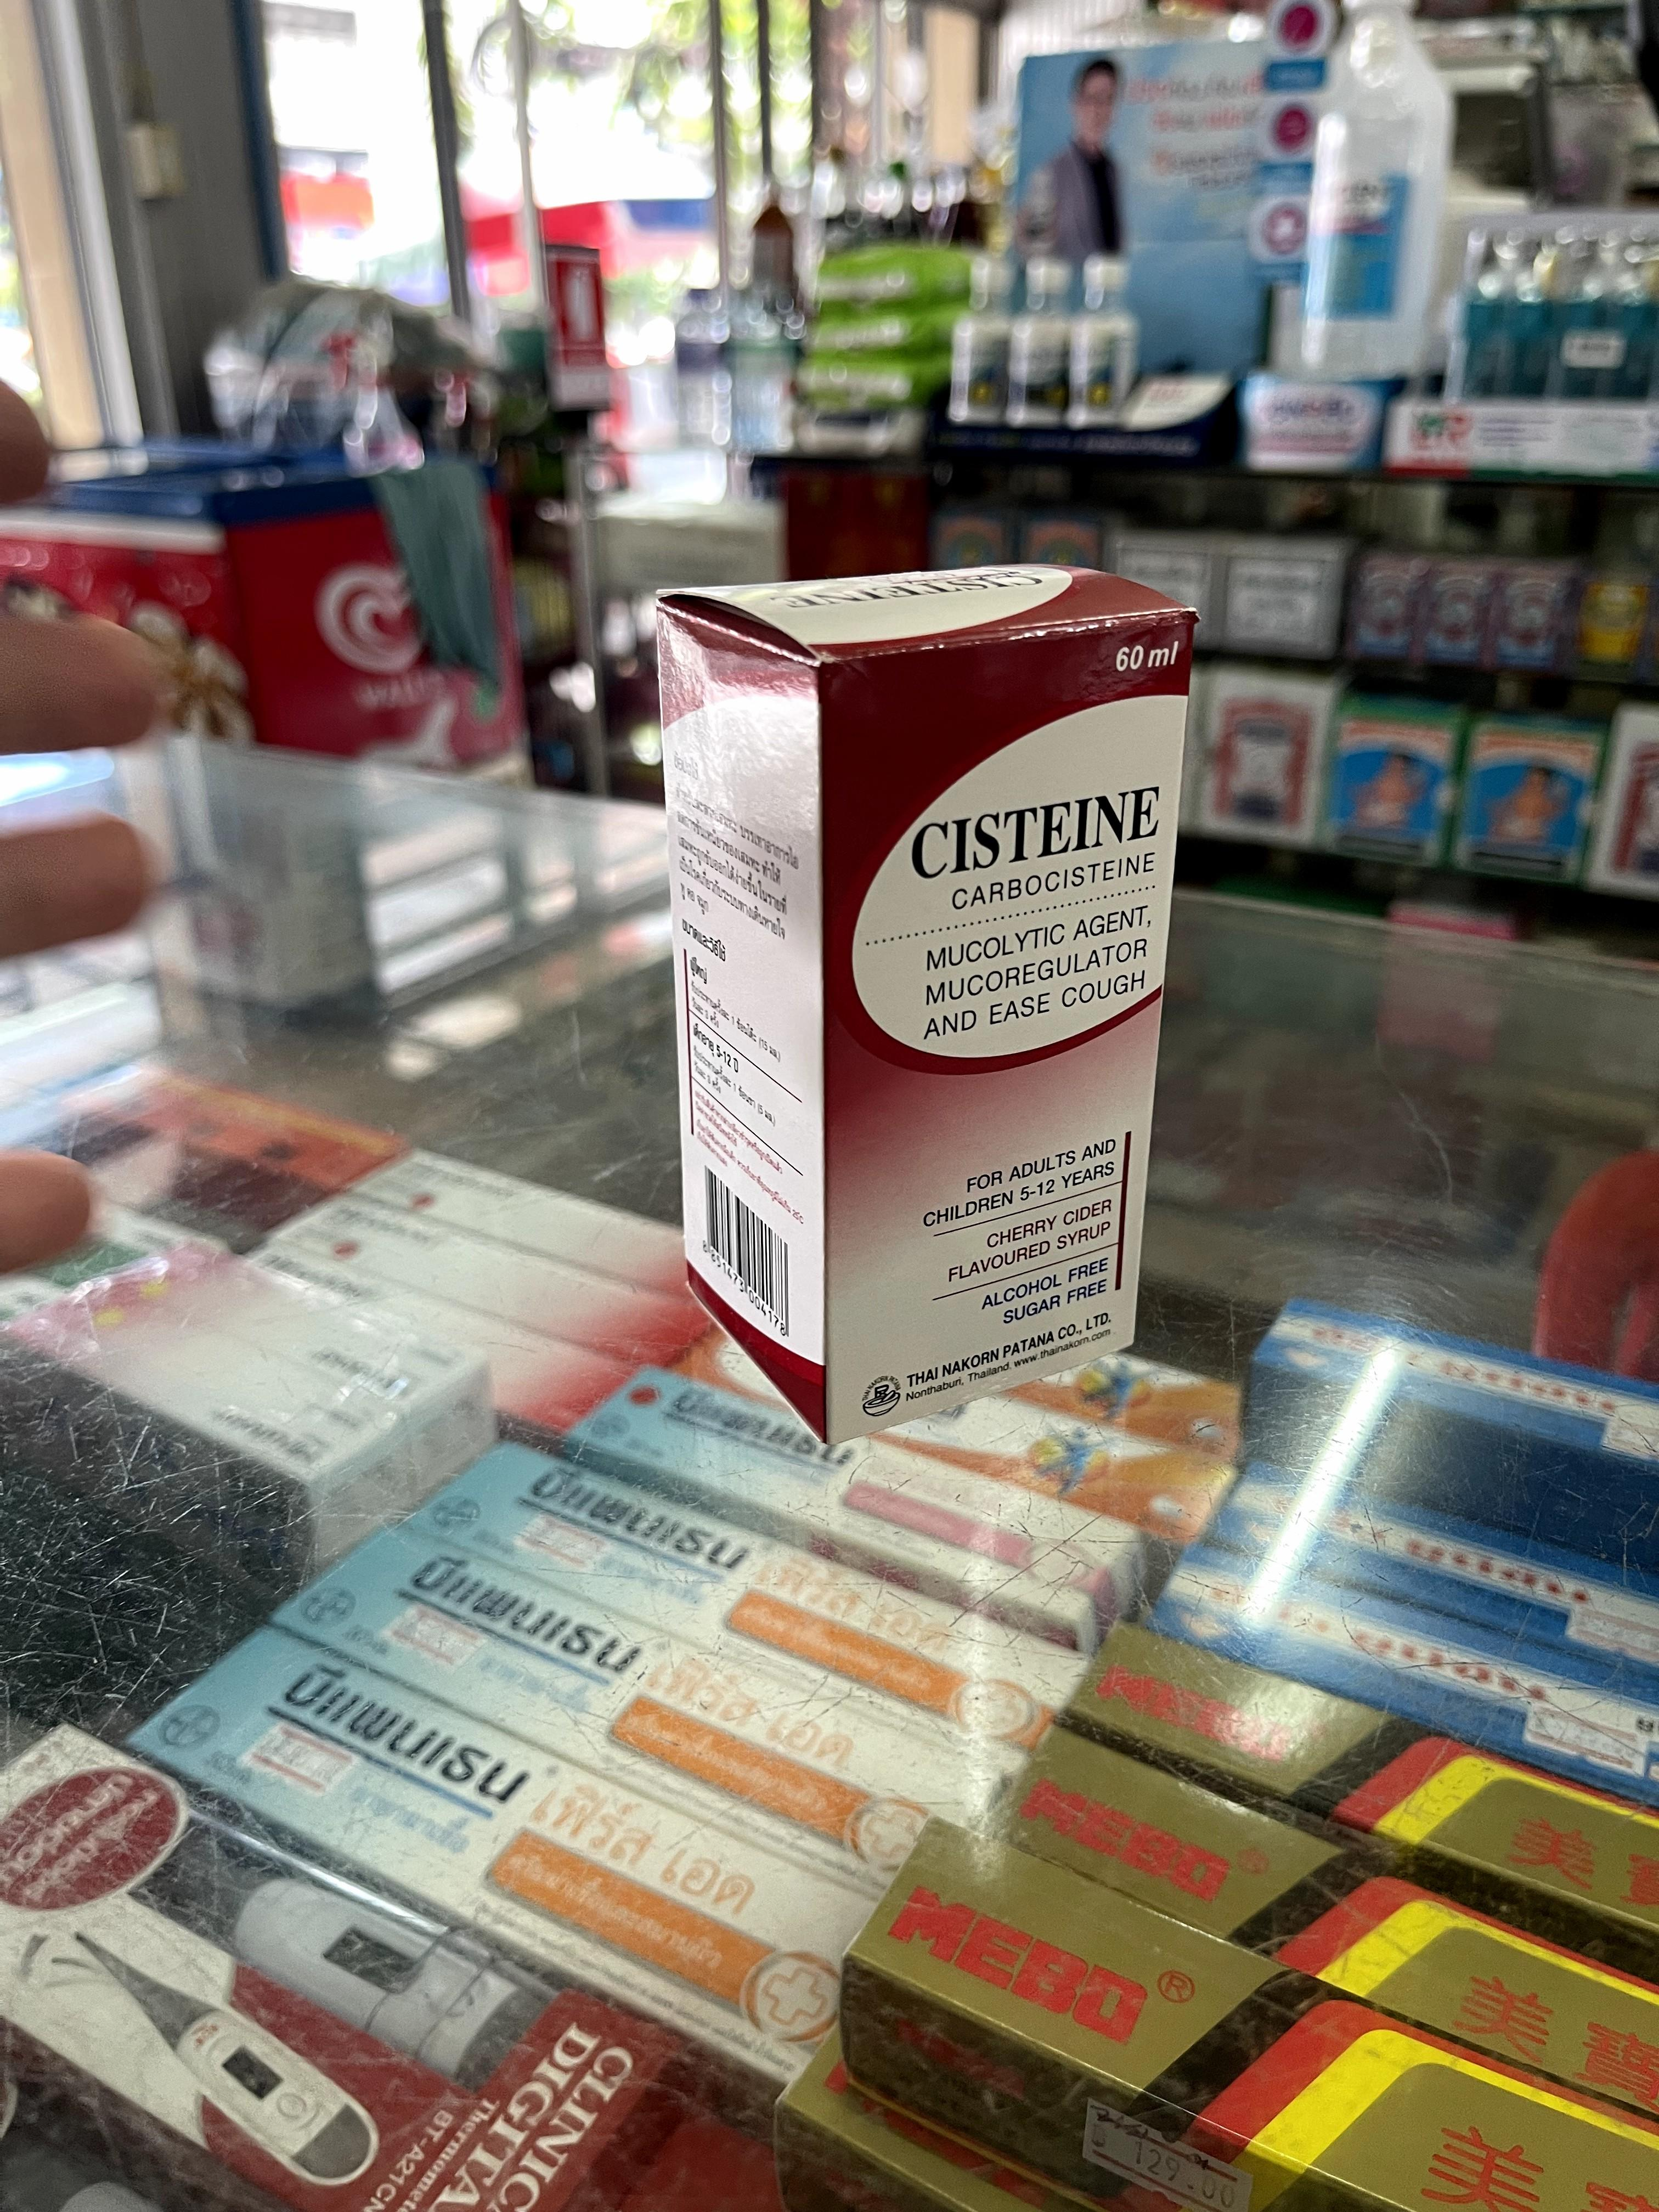Cisteine: (659, 564, 1195, 1442)
